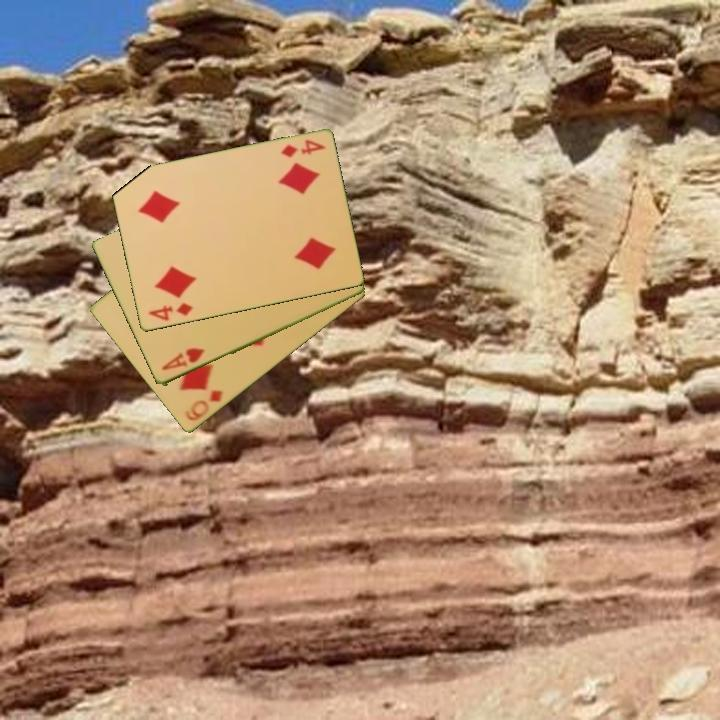4d: (145, 299, 196, 324), (277, 136, 328, 161)
6d: (181, 387, 226, 425)
Ah: (158, 344, 207, 374)
